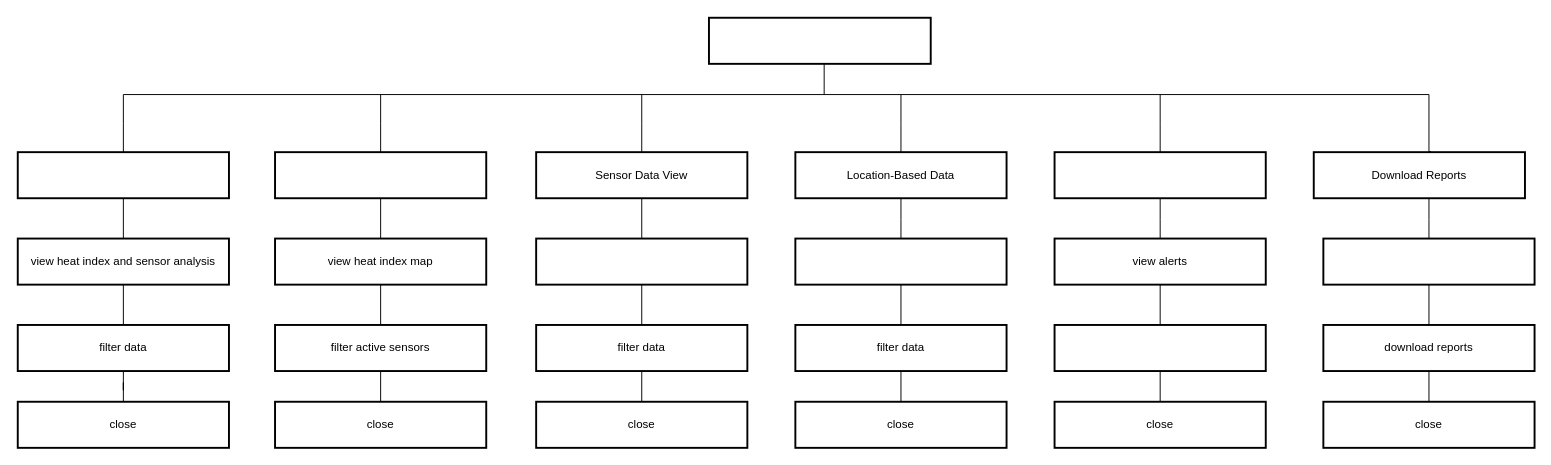
The diagram is 1551 pixels wide and 465 high, and some of its shapes have lost their labels. Each missing label, with the centre of its shape:
"24-Hour Alerts" belongs at (1159,175).
"filter alerts" belongs at (1159,348).
"Heat Index Dashboard" belongs at (122,175).
"Map View" belongs at (380,175).
"Public User" belongs at (819,40).
"view data by locations" belongs at (900,261).
"view reports" belongs at (1428,261).
"view sensor data" belongs at (641,261).
